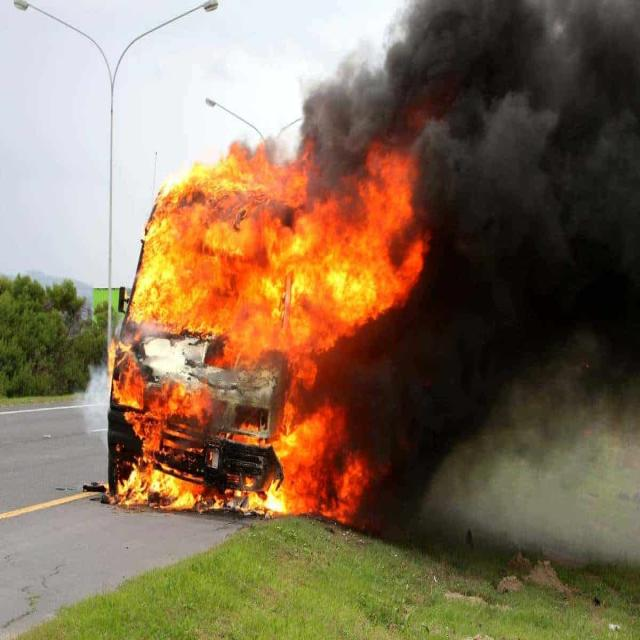fire: (132, 176, 302, 329), (106, 352, 202, 515), (306, 213, 393, 321), (256, 424, 330, 517)
